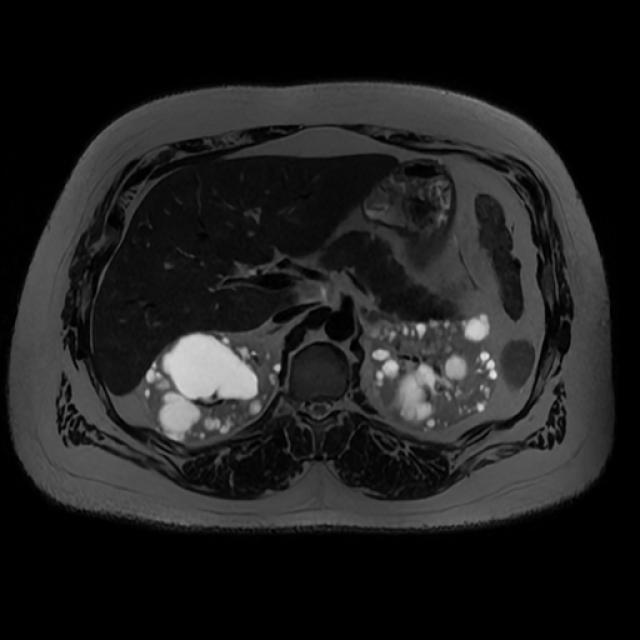sag: (146, 332, 282, 444)
sol: (371, 313, 498, 429)
